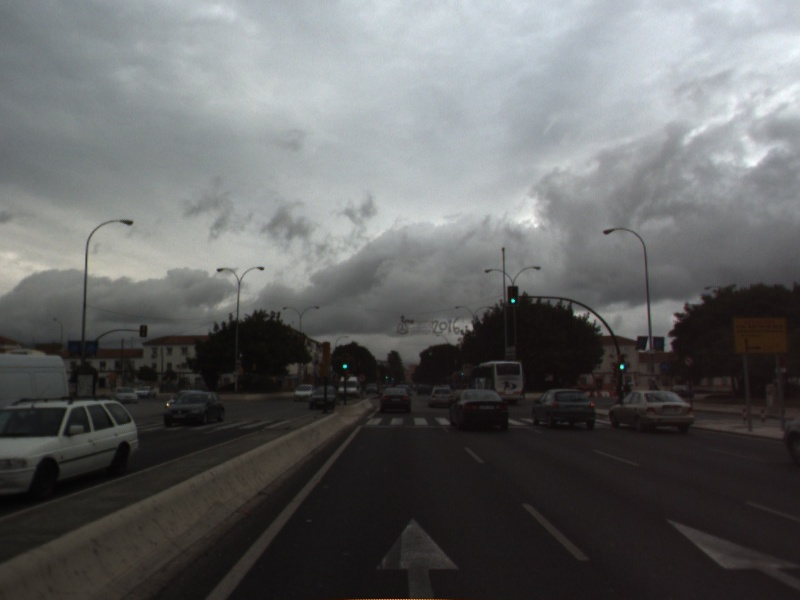STRAIGHT: (662, 514, 800, 593), (372, 512, 463, 600)
